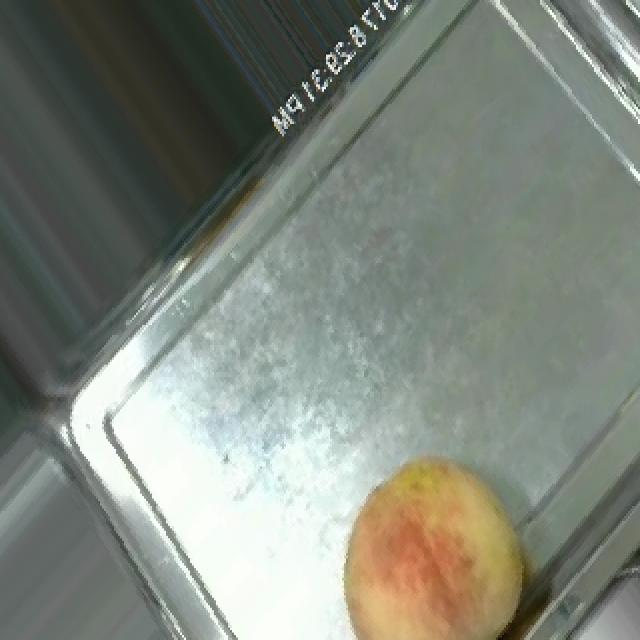Fruit: (304, 424, 564, 640)
